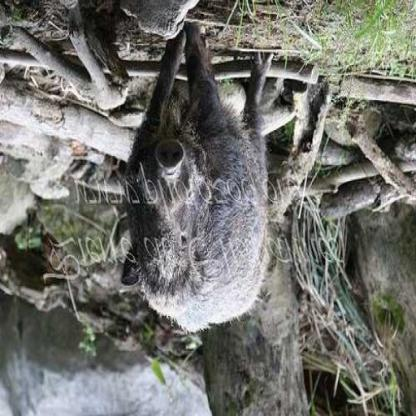boar: (126, 17, 346, 350)
